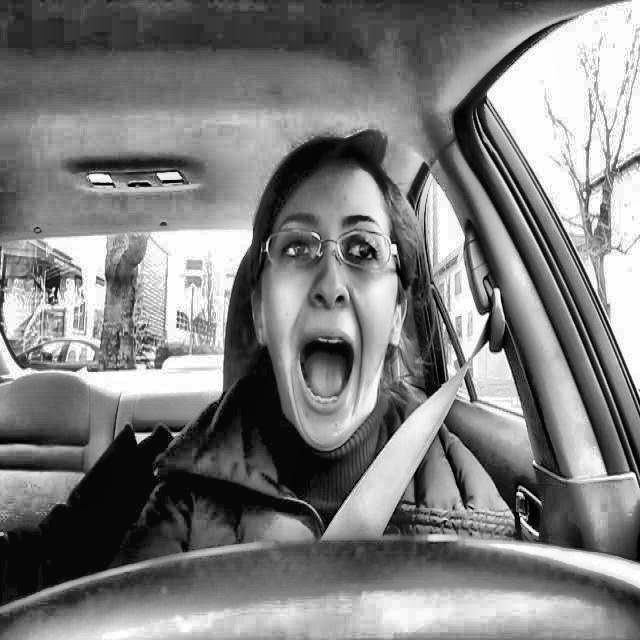open_eyes: (272, 230, 322, 269), (341, 233, 392, 269)
open_mouth: (286, 322, 370, 422)
